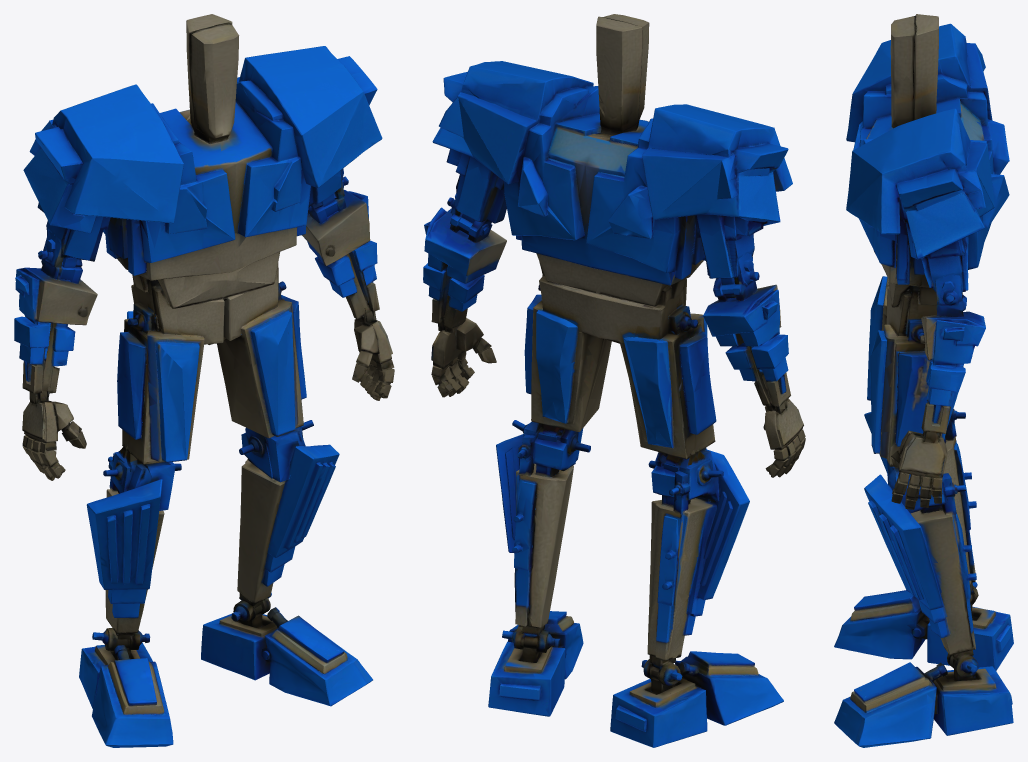
File: game-robot.glb
3 views of the same model, side by side, from view 1: azimuth 30°, elevation 25°; view 2: azimuth 150°, elevation 25°; view 3: azimuth 270°, elevation 25° (orthographic).
Parts seen in each view (by area): view 1: tripo_part_10, tripo_part_0, tripo_part_2, tripo_part_28, tripo_part_1, tripo_part_7, tripo_part_33, tripo_part_12, tripo_part_5, tripo_part_19, tripo_part_31, tripo_part_4 (+26 smaller); view 2: tripo_part_0, tripo_part_4, tripo_part_12, tripo_part_28, tripo_part_1, tripo_part_9, tripo_part_10, tripo_part_33, tripo_part_11, tripo_part_6, tripo_part_13, tripo_part_19 (+26 smaller); view 3: tripo_part_2, tripo_part_6, tripo_part_33, tripo_part_5, tripo_part_19, tripo_part_8, tripo_part_32, tripo_part_28, tripo_part_29, tripo_part_1, tripo_part_10, tripo_part_15 (+20 smaller).
Boxes of the visible parts, box(x1,y1,x2,y2) form: tripo_part_10: box(35, 84, 183, 223); tripo_part_0: box(117, 102, 297, 308); tripo_part_2: box(239, 46, 382, 187); tripo_part_28: box(103, 103, 235, 275); tripo_part_1: box(235, 80, 310, 237); tripo_part_7: box(86, 479, 162, 603); tripo_part_33: box(186, 14, 239, 143); tripo_part_12: box(131, 263, 278, 395); tripo_part_5: box(264, 444, 339, 572); tripo_part_19: box(237, 459, 284, 604); tripo_part_31: box(217, 298, 303, 438); tripo_part_4: box(23, 119, 110, 261); tripo_part_0: box(521, 114, 703, 306); tripo_part_4: box(642, 144, 780, 279); tripo_part_12: box(536, 262, 686, 423); tripo_part_28: box(586, 118, 705, 279); tripo_part_1: box(504, 86, 599, 240); tripo_part_9: box(647, 497, 716, 660); tripo_part_10: box(649, 104, 792, 191); tripo_part_33: box(596, 14, 649, 135); tripo_part_11: box(512, 420, 590, 626); tripo_part_6: box(432, 92, 526, 223); tripo_part_13: box(610, 679, 707, 747); tripo_part_19: box(514, 463, 573, 627); tripo_part_2: box(846, 108, 970, 234); tripo_part_6: box(905, 170, 994, 291); tripo_part_33: box(890, 14, 938, 128); tripo_part_5: box(864, 474, 947, 623); tripo_part_19: box(911, 510, 975, 655); tripo_part_8: box(933, 666, 1013, 735); tripo_part_32: box(834, 666, 936, 747); tripo_part_28: box(853, 72, 1009, 174); tripo_part_29: box(834, 607, 929, 659); tripo_part_1: box(859, 139, 1009, 284); tripo_part_10: box(846, 23, 970, 142); tripo_part_15: box(920, 311, 985, 365).
Bounding box in the file's own units: 0.5398 × 0.9802 × 0.2398.
1 material, 1 textured.
